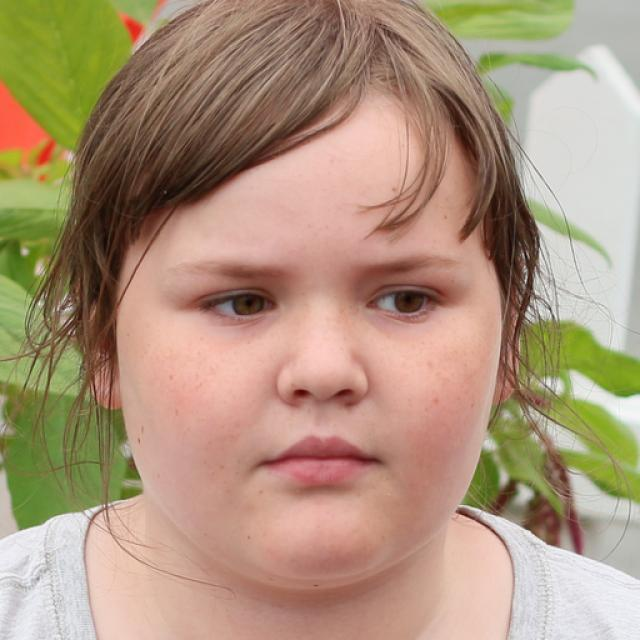anger: (119, 122, 502, 580)
